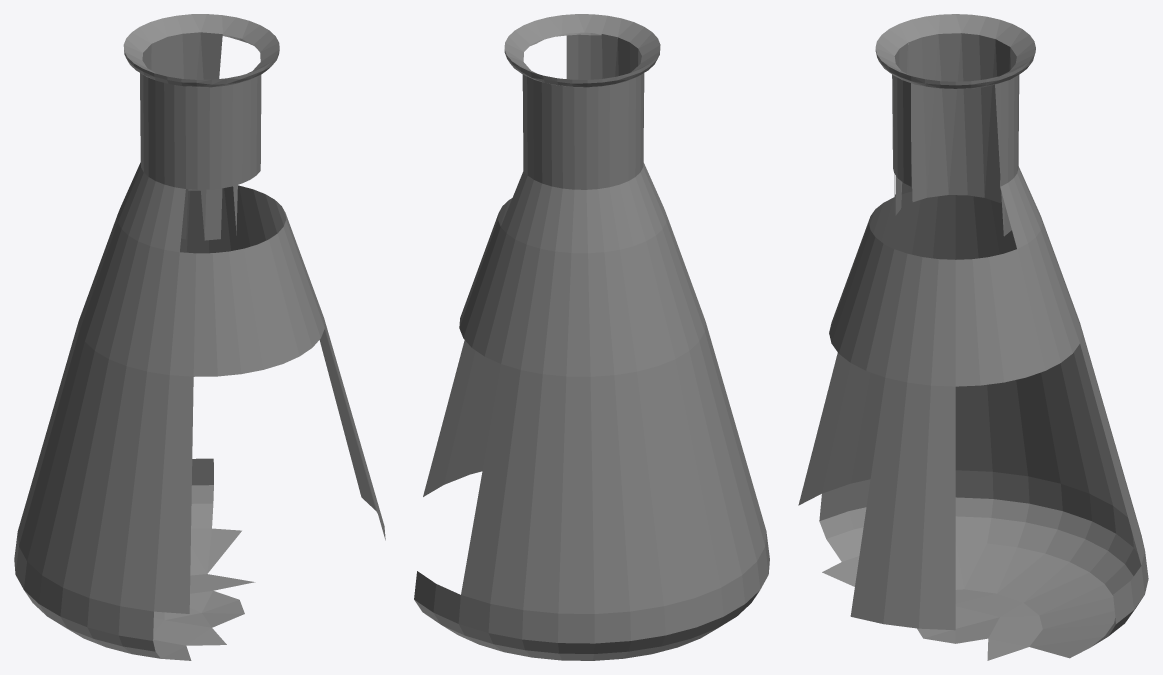
File: brokenErlenmeyer.gltf
3 renders of one model, left to right at view 1: azimuth 30°, elevation 25°; view 2: azimuth 150°, elevation 25°; view 3: azimuth 270°, elevation 25°, orthographic. The views are drawn at different scales.
Visible parts, largest first — view 1: Glass; view 2: Glass; view 3: Glass.
Boxes of the visible parts, x1,y1,x2,y2 form: Glass: (14,14,385,660); Glass: (414,14,769,660); Glass: (798,14,1148,660).
Size of the model in its own units: 0.5536 by 0.9286 by 0.5074.
1 material, 1 textured.
